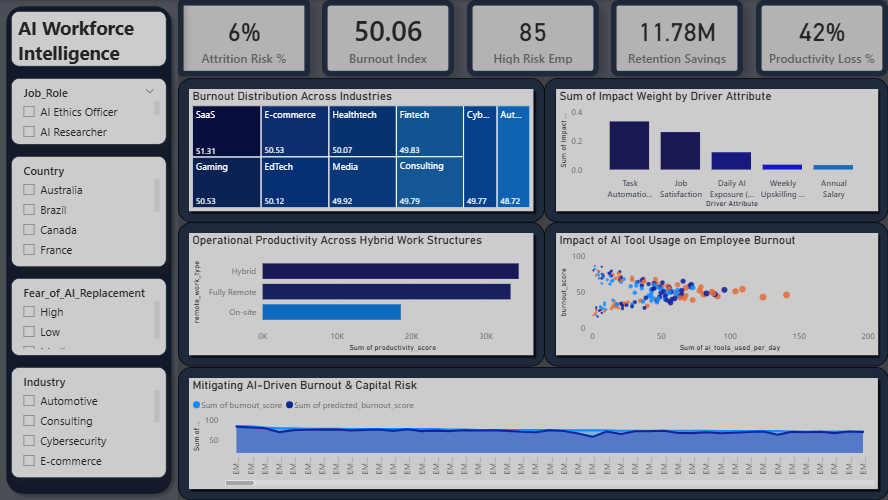

This screenshot's page, from the dashboard's own definition file:
{"tool":"powerbi","page":{"name":"Page 1","canvas":[1280,720],"ordinal":0},"visuals":[{"type":"card","fields":{"Values":["final_predictions.Attrition Risk %"]},"box":[256,0,190,110],"z":0},{"type":"card","fields":{"Values":["final_predictions.Burnout Index"]},"box":[464,0,190,110],"z":1000},{"type":"card","fields":{"Values":["final_predictions.High Risk Emp"]},"box":[672,0,190,110],"z":2000},{"type":"card","fields":{"Values":["final_predictions.Retention Savings"]},"box":[880,0,190,110],"z":3000},{"type":"card","fields":{"Values":["final_predictions.Productivity Loss %"]},"box":[1088,0,190,110],"z":4000},{"type":"shape","box":[0,0,256,720],"z":5000},{"type":"textbox","title":"AI Workforce Intelligence","box":[16,16,224,80],"z":6000},{"type":"shape","box":[256,112,528,208],"z":7000},{"type":"treemap","title":"Burnout Distribution Across Industries","fields":{"Values":["final_predictions.Avg Burnout Score"],"Group":["final_predictions.industry"]},"box":[272,128,496,176],"z":8000},{"type":"shape","box":[784,112,496,208],"z":9000},{"type":"clusteredColumnChart","fields":{"Category":["Model_Insights.Driver Attribute"],"Y":["Sum(Model_Insights.Impact Weight)"]},"box":[800,128,464,176],"z":10000},{"type":"shape","box":[256,320,528,208],"z":11000},{"type":"clusteredBarChart","title":"Operational Productivity Across Hybrid Work Structures","fields":{"Category":["final_predictions.remote_work_type"],"Y":["Sum(final_predictions.productivity_score)"]},"box":[272,336,496,176],"z":12000},{"type":"shape","box":[784,320,496,208],"z":13000},{"type":"scatterChart","title":"Impact of AI Tool Usage on Employee Burnout","fields":{"X":["Sum(final_predictions.ai_tools_used_per_day)"],"Y":["final_predictions.burnout_score"],"Size":["CountNonNull(final_predictions.primary_ai_tool)"],"Series":["final_predictions.fear_of_ai_replacement"]},"box":[800,336,464,176],"z":14000},{"type":"shape","box":[256,528,1024,192],"z":15000},{"type":"lineChart","title":"Mitigating AI-Driven Burnout & Capital Risk","fields":{"Y":["Sum(final_predictions.burnout_score)","Sum(final_predictions.predicted_burnout_score)"],"Category":["final_predictions.employee_id"]},"box":[272,544,992,160],"z":16000},{"type":"slicer","fields":{"Values":["final_predictions.job_role"]},"box":[16,112,224,96],"z":17000},{"type":"slicer","fields":{"Values":["final_predictions.country"]},"box":[16,224,224,160],"z":18000},{"type":"slicer","fields":{"Values":["final_predictions.fear_of_ai_replacement"]},"box":[16,400,224,112],"z":19000},{"type":"slicer","fields":{"Values":["final_predictions.industry"]},"box":[16,528,224,160],"z":20000}]}

Visuals, with their boxes in screenshot pixels (x1, y1, x2, y2), scaled from the page's 1280x720 canvas onto the 888x500 screenshot:
card - final_predictions.Attrition Risk %: {"left": 178, "top": 0, "right": 309, "bottom": 76}
card - final_predictions.Burnout Index: {"left": 322, "top": 0, "right": 454, "bottom": 76}
card - final_predictions.High Risk Emp: {"left": 466, "top": 0, "right": 598, "bottom": 76}
card - final_predictions.Retention Savings: {"left": 610, "top": 0, "right": 742, "bottom": 76}
card - final_predictions.Productivity Loss %: {"left": 755, "top": 0, "right": 887, "bottom": 76}
shape: {"left": 0, "top": 0, "right": 178, "bottom": 499}
"AI Workforce Intelligence" textbox: {"left": 11, "top": 11, "right": 166, "bottom": 67}
shape: {"left": 178, "top": 78, "right": 544, "bottom": 222}
"Burnout Distribution Across Industries" treemap: {"left": 189, "top": 89, "right": 533, "bottom": 211}
shape: {"left": 544, "top": 78, "right": 887, "bottom": 222}
clusteredColumnChart - Model_Insights.Driver Attribute x Sum(Model_Insights.Impact Weight): {"left": 555, "top": 89, "right": 877, "bottom": 211}
shape: {"left": 178, "top": 222, "right": 544, "bottom": 367}
"Operational Productivity Across Hybrid Work Structures" clusteredBarChart: {"left": 189, "top": 233, "right": 533, "bottom": 356}
shape: {"left": 544, "top": 222, "right": 887, "bottom": 367}
"Impact of AI Tool Usage on Employee Burnout" scatterChart: {"left": 555, "top": 233, "right": 877, "bottom": 356}
shape: {"left": 178, "top": 367, "right": 887, "bottom": 499}
"Mitigating AI-Driven Burnout & Capital Risk" lineChart: {"left": 189, "top": 378, "right": 877, "bottom": 489}
slicer - final_predictions.job_role: {"left": 11, "top": 78, "right": 166, "bottom": 144}
slicer - final_predictions.country: {"left": 11, "top": 156, "right": 166, "bottom": 267}
slicer - final_predictions.fear_of_ai_replacement: {"left": 11, "top": 278, "right": 166, "bottom": 356}
slicer - final_predictions.industry: {"left": 11, "top": 367, "right": 166, "bottom": 478}
